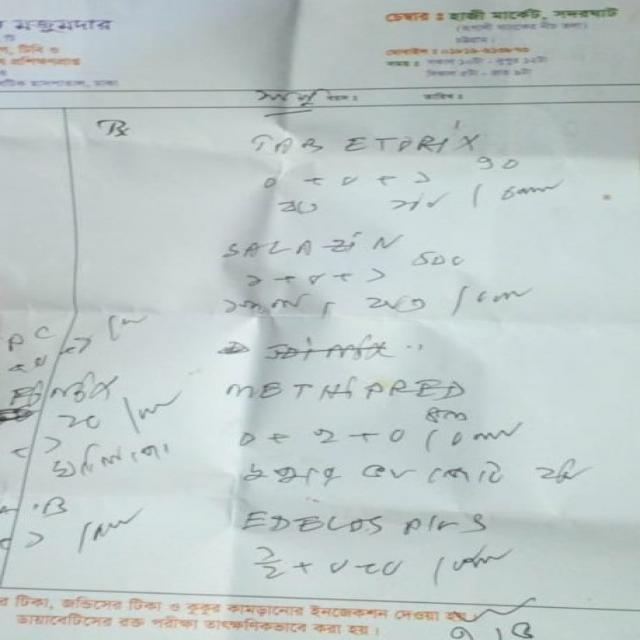Edeloss: (229, 503, 393, 540)
Etorix: (336, 128, 492, 164)
Methipred: (205, 370, 479, 410)
Salazine: (208, 224, 408, 262)
